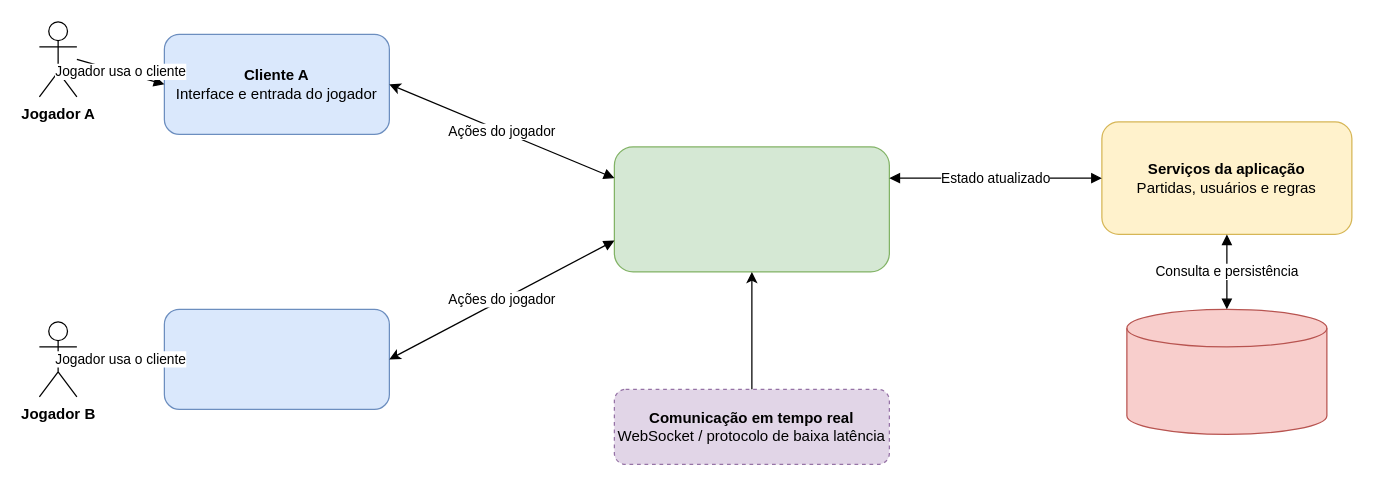
Some shapes in this 1374 by 486 pixel diagram are drawn without their labels. Each missing label, with the centre of its shape:
Banco de dados Perfis e estado persistido: point (1226, 371)
Cliente B Interface e entrada do jogador: point (276, 358)
Servidor de jogo Servidor autoritativo Valida ações e sincroniza o estado: point (751, 209)
